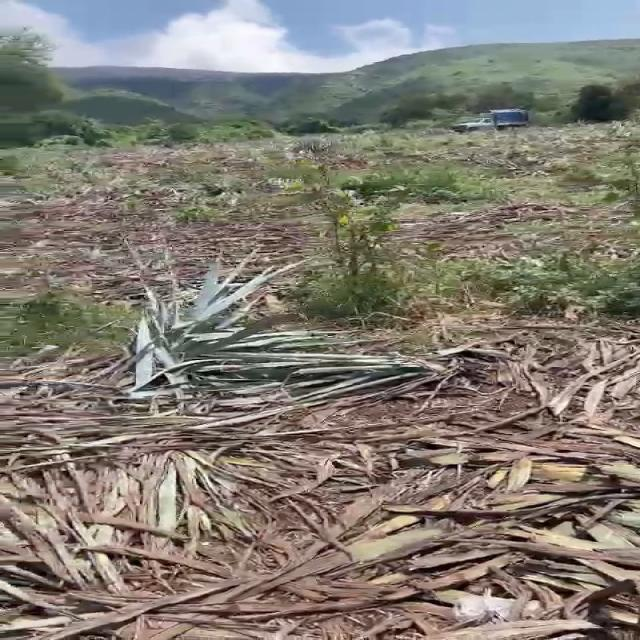agave: (131, 242, 300, 399)
